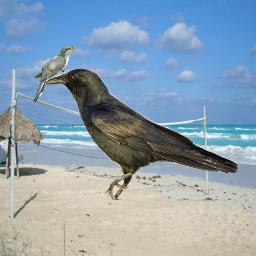Crow: (42, 67, 240, 200)
Cuckoo: (33, 46, 76, 102)
